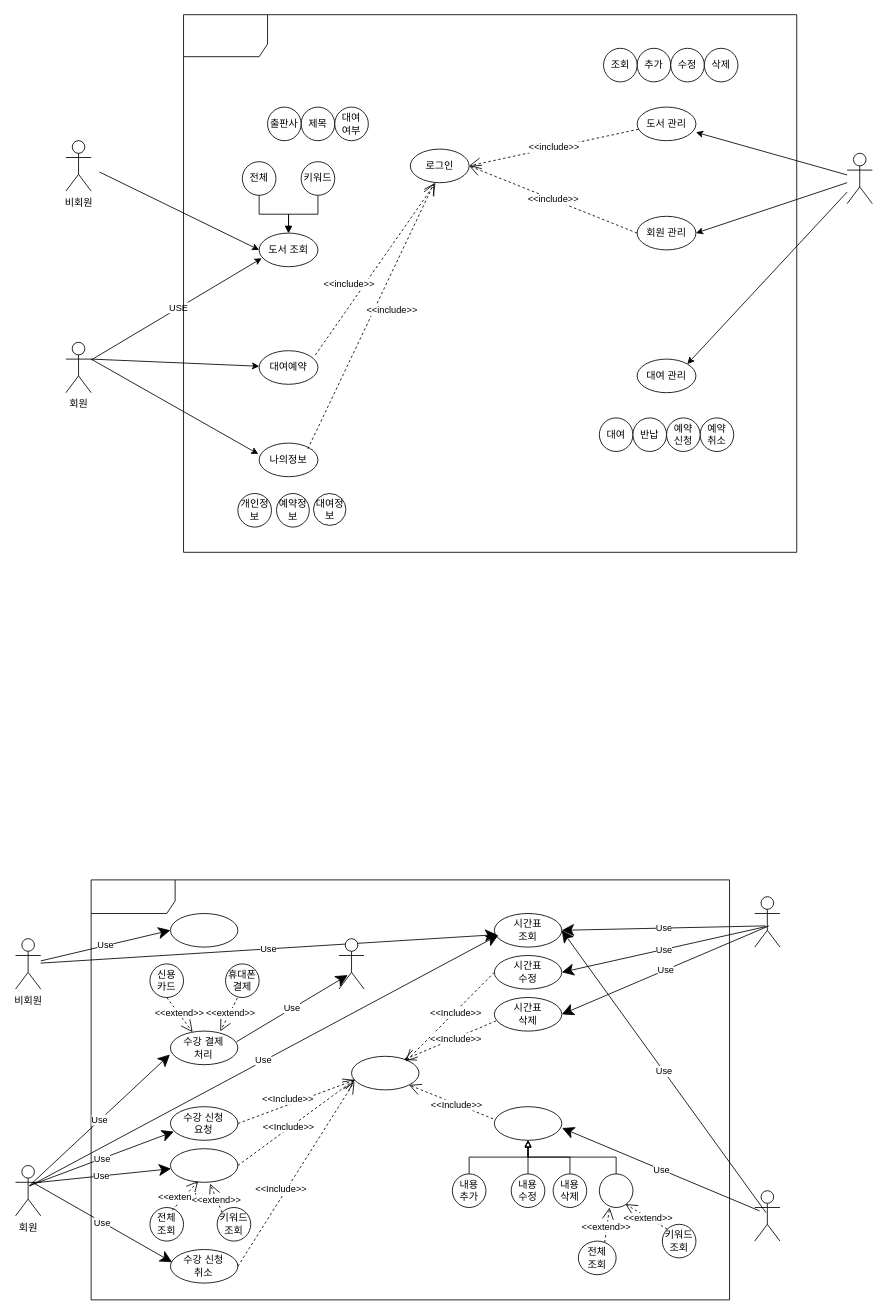
Some shapes in this 887 by 1315 pixel diagram are drawn without their labels. The shapes that lost their labels are listed below. From the top down, each one's box as (x1, y1, x2, y2) in pixels, then its label:
(846, 152, 872, 204): 사서
(183, 14, 797, 552): 도서관리시스템
(170, 913, 238, 947): 회원가입
(754, 896, 780, 947): 관리자
(338, 938, 364, 989): 결제 대행 시스템
(351, 1055, 419, 1090): 인증
(90, 879, 730, 1300): LMS 시스템
(494, 1106, 562, 1140): 강의 관리
(170, 1148, 238, 1182): 수강 신청 조회
(598, 1173, 633, 1208): 내용 조회
(754, 1190, 780, 1241): 교수
